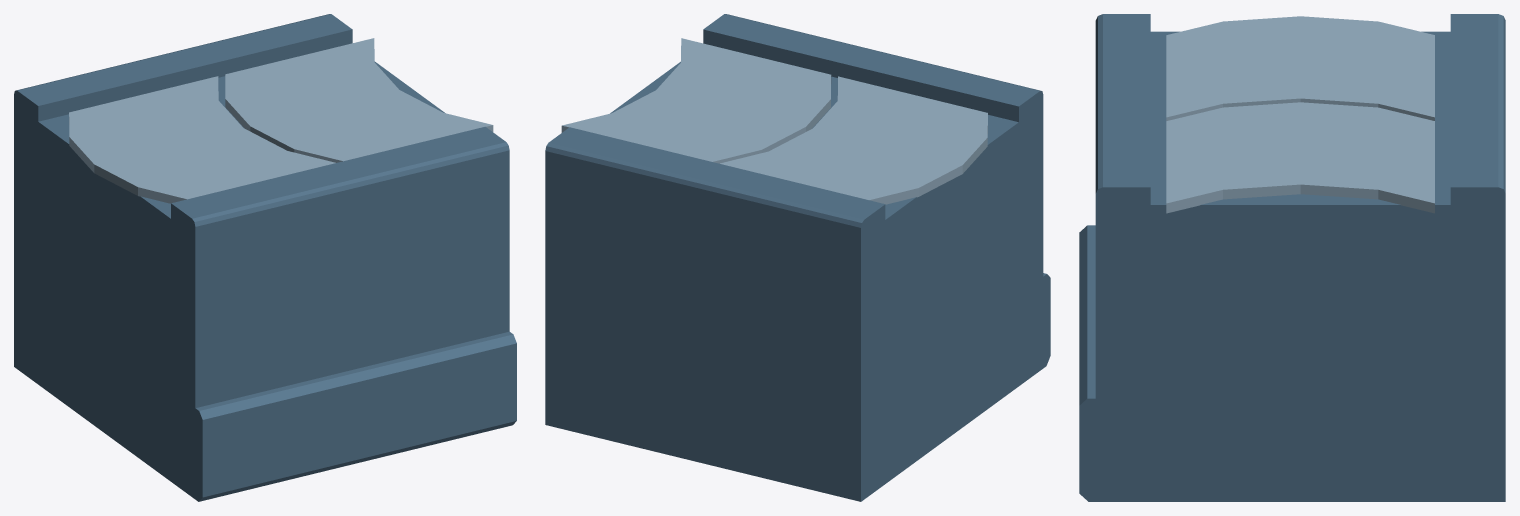
Rendered from ConveyorBelt_Parts.fbx.
The picture shows the model from 3 angles, left to right: view 1: azimuth 30°, elevation 25°; view 2: azimuth 150°, elevation 25°; view 3: azimuth 270°, elevation 25°; orthographic projection. The views are drawn at different scales.
Visible parts, largest first — view 1: ConveyrBelt_Bottom, ConveyorBelt_Top; view 2: ConveyrBelt_Bottom, ConveyorBelt_Top; view 3: ConveyrBelt_Bottom, ConveyorBelt_Top.
Boxes of the visible parts, x1,y1,x2,y2 form: ConveyrBelt_Bottom: (14,14,516,501); ConveyorBelt_Top: (69,38,493,203); ConveyrBelt_Bottom: (545,14,1050,501); ConveyorBelt_Top: (561,38,987,204); ConveyrBelt_Bottom: (1079,14,1505,501); ConveyorBelt_Top: (1166,16,1434,213).
Size of the model in its own units: 432 by 339 by 416.
